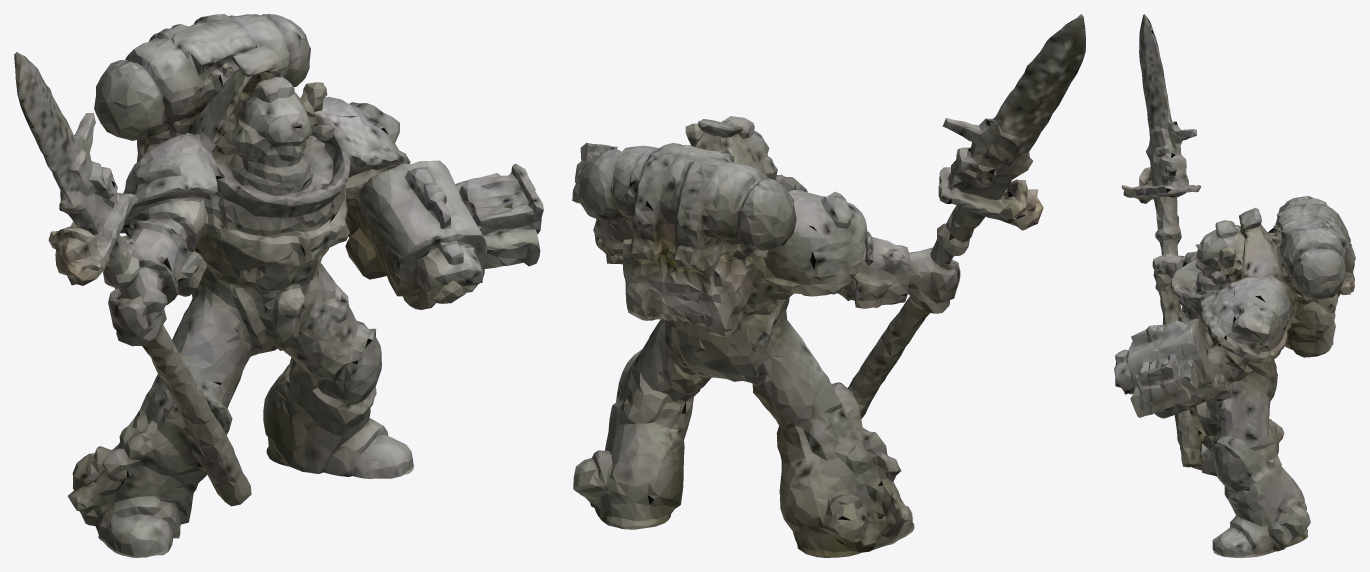
File: drusius.glb
3 renders of one model, left to right at view 1: azimuth 30°, elevation 25°; view 2: azimuth 150°, elevation 25°; view 3: azimuth 270°, elevation 25°, orthographic. The views are drawn at different scales.
Parts seen in each view (by area): view 1: DRUSIUS; view 2: DRUSIUS; view 3: DRUSIUS.
Part boxes in pixels (<box>): DRUSIUS: <box>14,14,543,557</box>; DRUSIUS: <box>572,14,1085,557</box>; DRUSIUS: <box>1114,14,1355,557</box>.
Size of the model in its own units: 84.43 by 86.43 by 48.52.
Materials: 1 (1 with a texture image).
